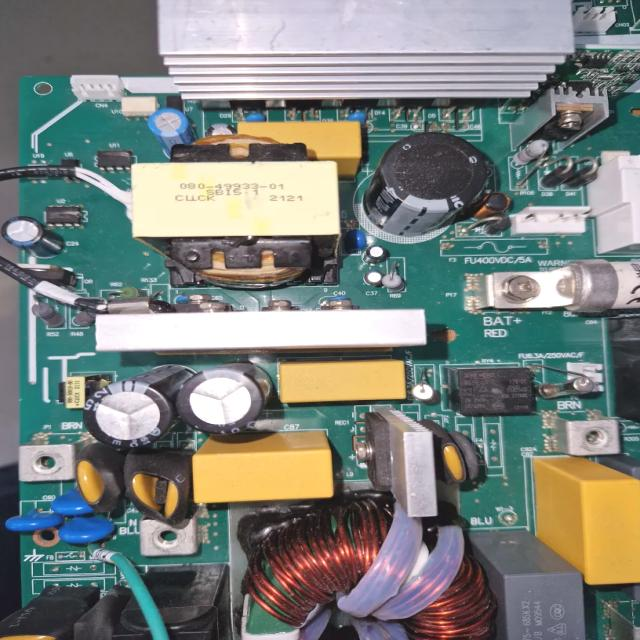A: (244, 506, 492, 640)
B: (470, 261, 640, 311)
C: (364, 132, 486, 236), (82, 378, 174, 448), (178, 366, 272, 434)
